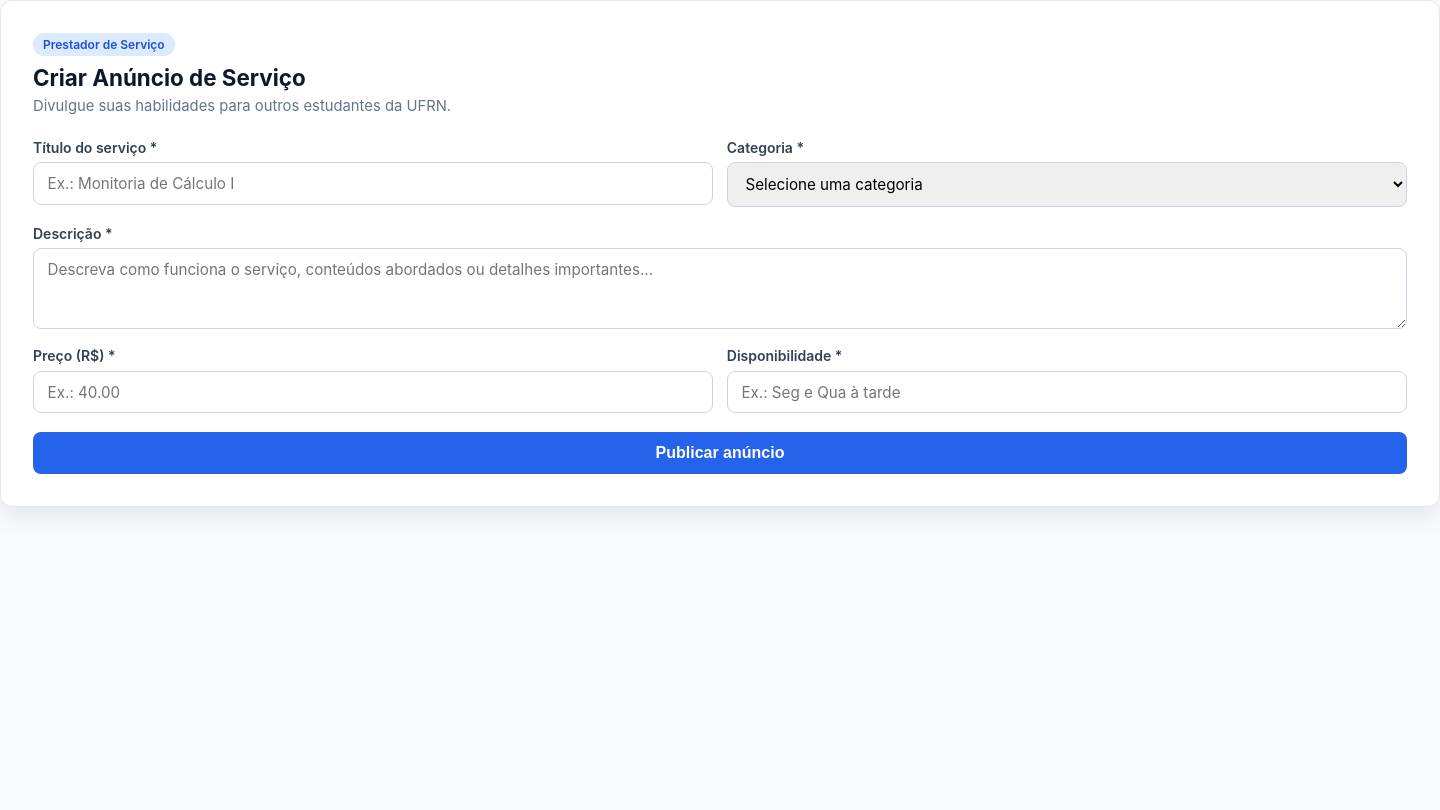
Scenario: ServiceListingForm › deve validar todos os campos obrigatórios antes de publicar o anúncio
Click the button "Publicar anúncio" at point(720, 453), box [33,432,1407,474]
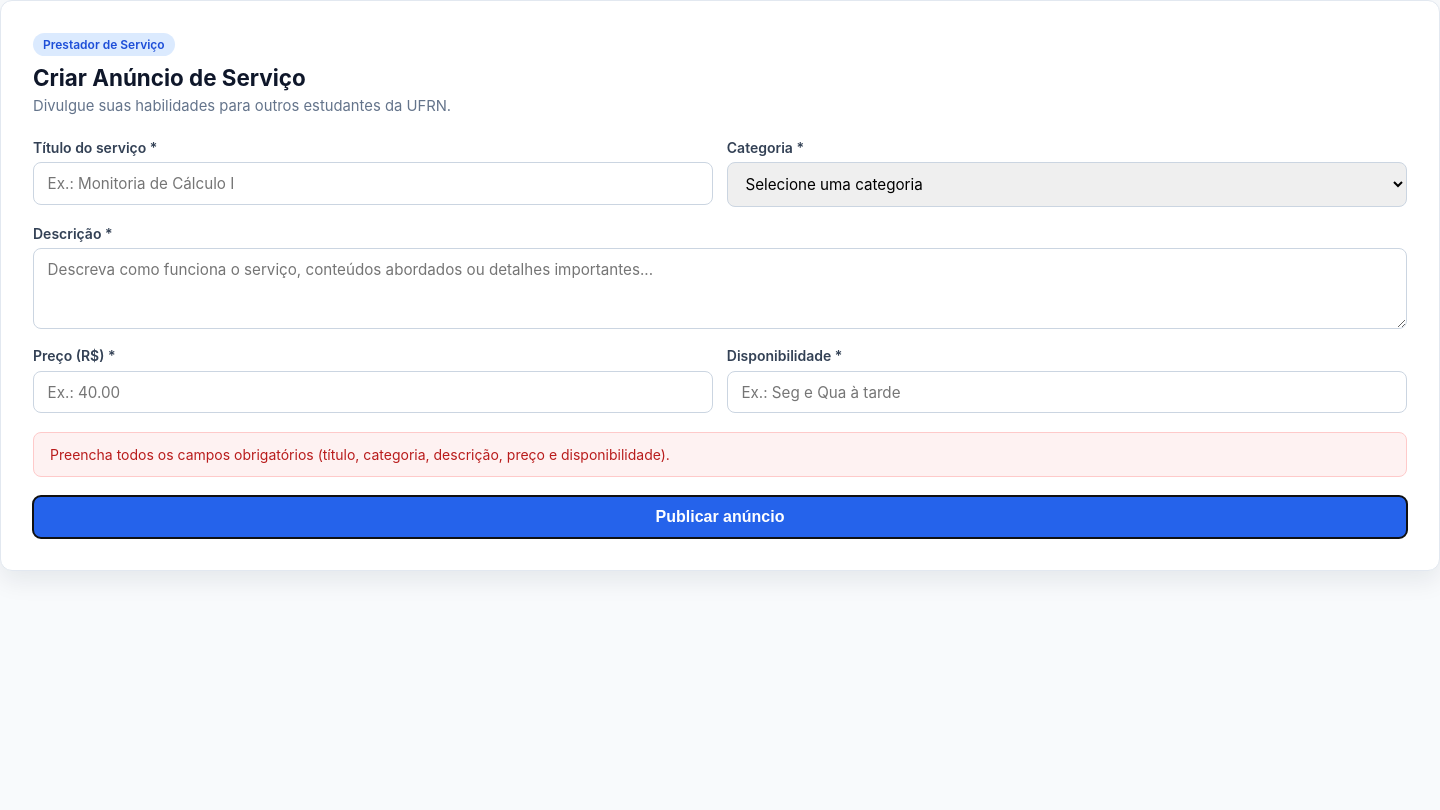
Now the text "Preencha todos os campos obrigatórios" is shown, box [50,446,670,463]
